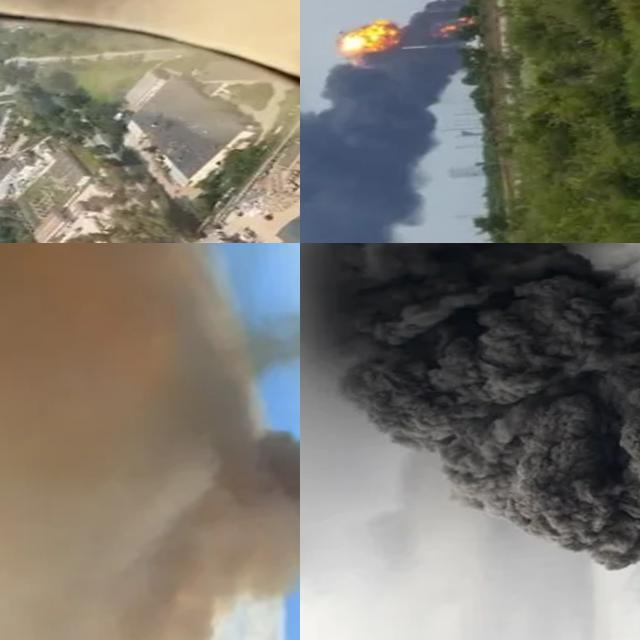smoke: (300, 243, 640, 609), (300, 0, 490, 243), (189, 423, 300, 640)
